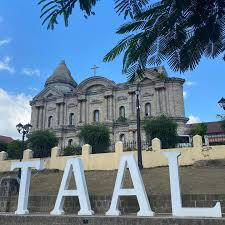taal_basilica_church_taal_batangas: (23, 55, 189, 149)
